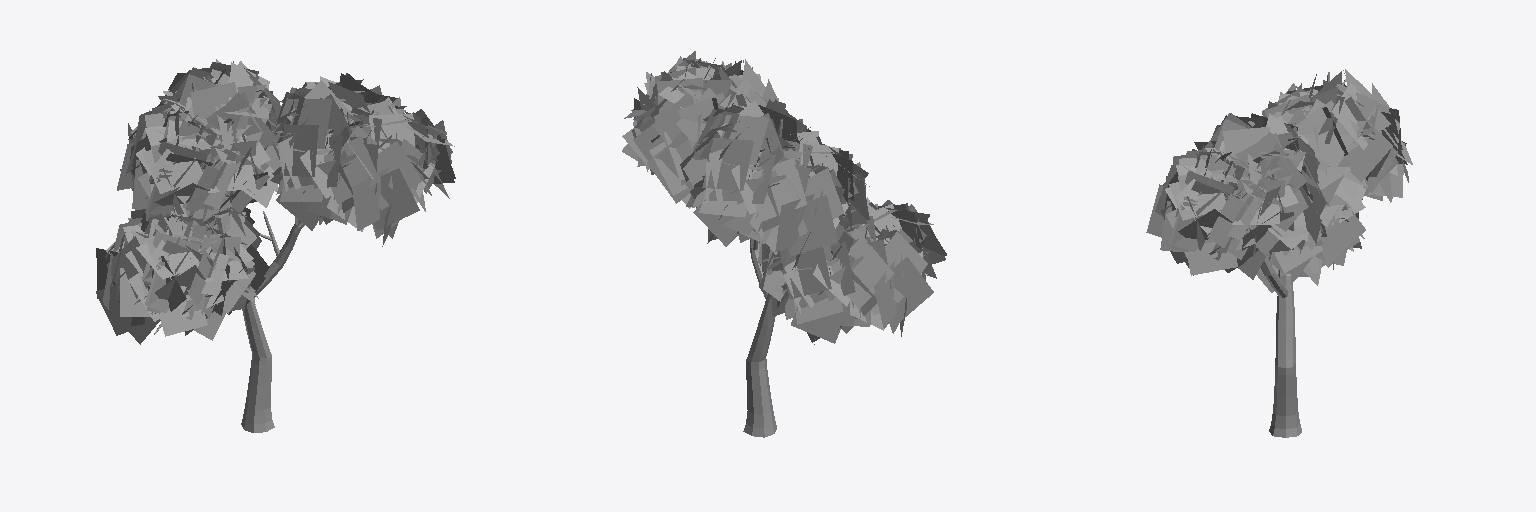
Rendered from MapleTree_5.obj.
3 views of the same model, side by side, from view 1: azimuth 30°, elevation 25°; view 2: azimuth 150°, elevation 25°; view 3: azimuth 270°, elevation 25° (orthographic).
Visible parts, largest first — view 1: MapleTree_5_Cube.010; view 2: MapleTree_5_Cube.010; view 3: MapleTree_5_Cube.010.
Part boxes in pixels (x1,y1,x2,y2): MapleTree_5_Cube.010: (96,59,455,432); MapleTree_5_Cube.010: (622,51,946,437); MapleTree_5_Cube.010: (1146,69,1412,437).
Size of the model in its own units: 7.01 by 7.28 by 5.08.